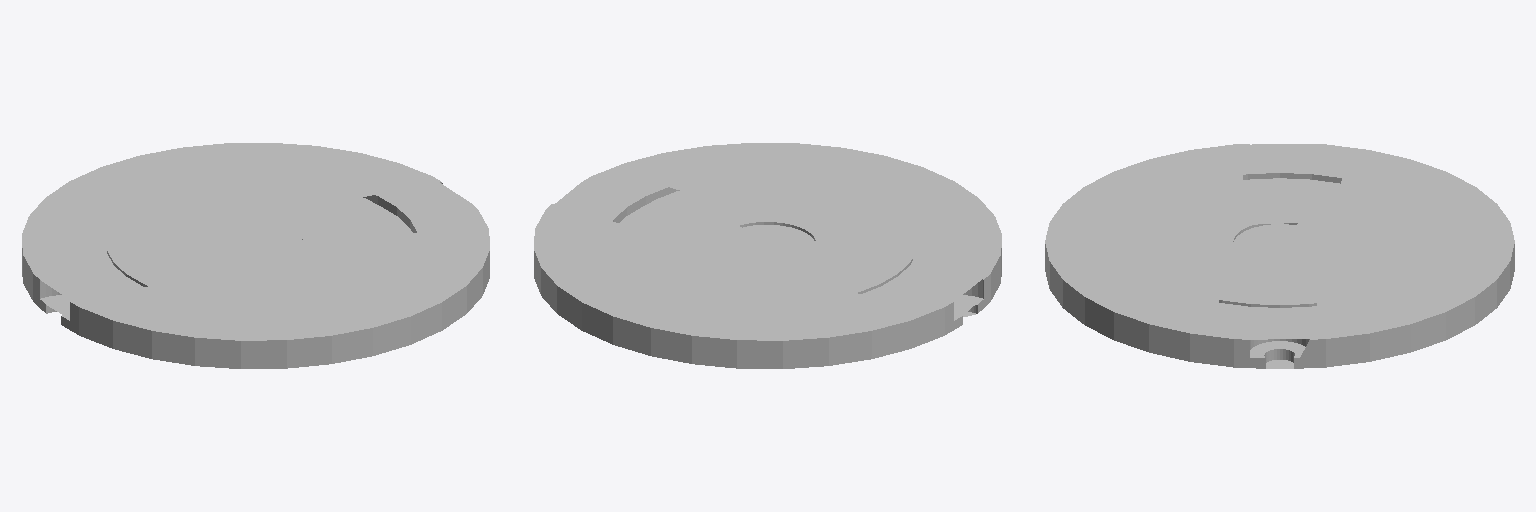
Rendered from T. fester Schraubstock.obj.
3 views of the same model, side by side, from view 1: azimuth 30°, elevation 25°; view 2: azimuth 150°, elevation 25°; view 3: azimuth 270°, elevation 25° (orthographic).
Parts seen in each view (by area): view 1: Zylinder.002; view 2: Zylinder.002; view 3: Zylinder.002.
Part boxes in pixels (x1,y1,x2,y2): Zylinder.002: (22, 143, 489, 368); Zylinder.002: (534, 143, 1001, 368); Zylinder.002: (1045, 144, 1514, 368).
Bounding box in the file's own units: 14.91 × 1 × 15.